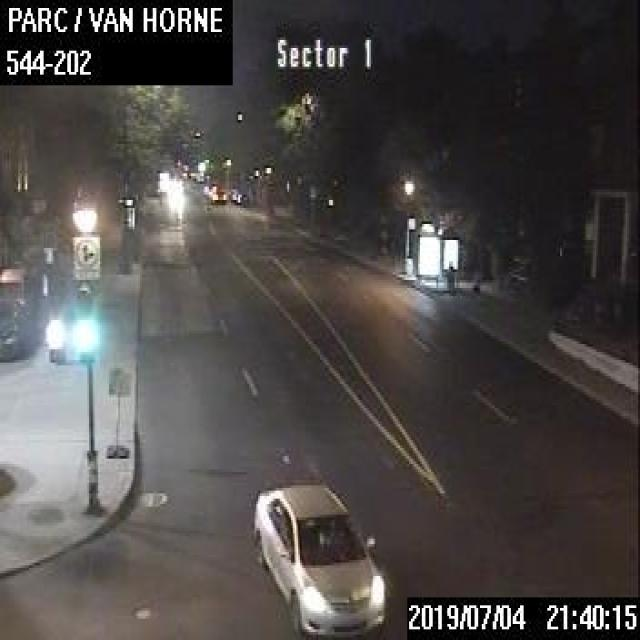pedestrian: (443, 258, 454, 296)
vehicle: (251, 478, 387, 638), (46, 302, 94, 360), (0, 294, 35, 358), (209, 187, 225, 202)
